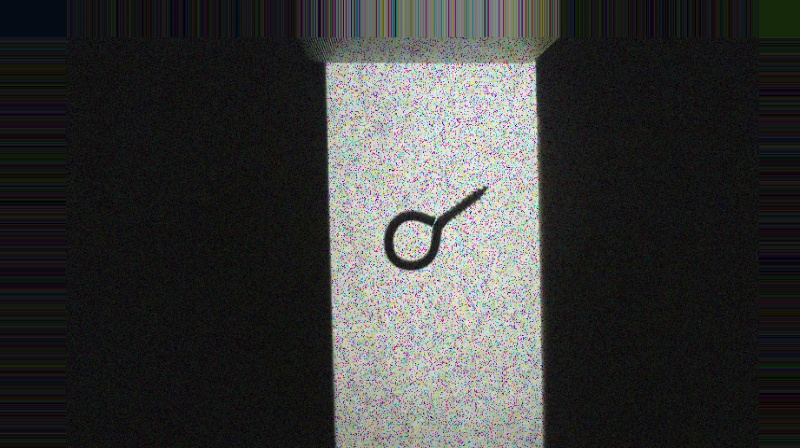O001: (379, 182, 490, 273)
